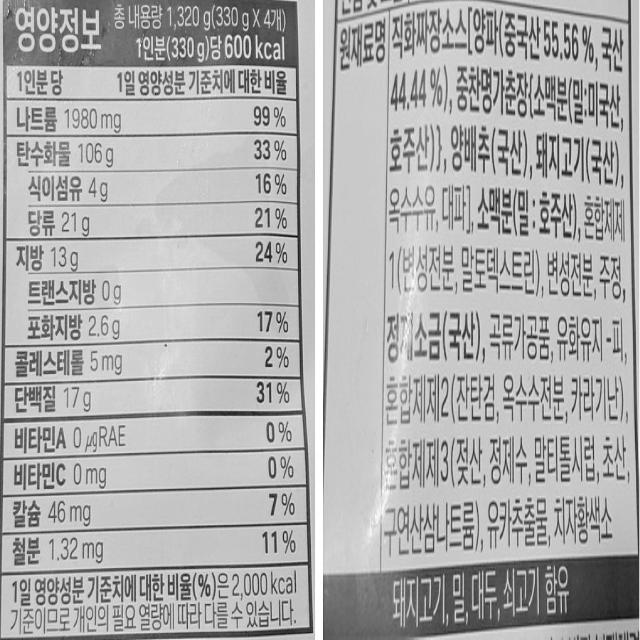Nutrition Label: (1, 1, 314, 640)
